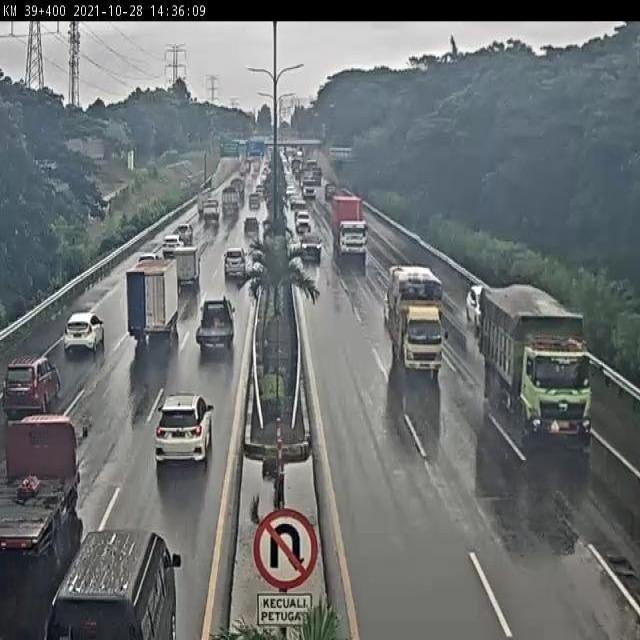big truck: (479, 275, 582, 424), (119, 262, 176, 362), (340, 210, 383, 266)
car: (46, 528, 189, 640), (145, 383, 220, 485), (0, 353, 67, 412), (191, 293, 241, 360), (51, 306, 107, 358), (465, 273, 487, 324), (297, 227, 323, 261), (219, 256, 245, 288), (241, 219, 258, 248), (293, 210, 314, 226), (169, 229, 186, 247), (133, 249, 153, 263), (156, 347, 157, 357)
small truck: (1, 420, 96, 591), (380, 260, 455, 384), (161, 262, 193, 298)
